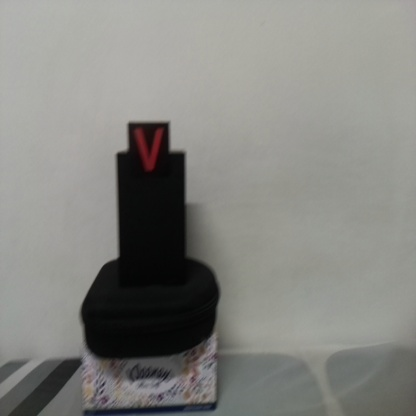id_11: (128, 122, 170, 178)
